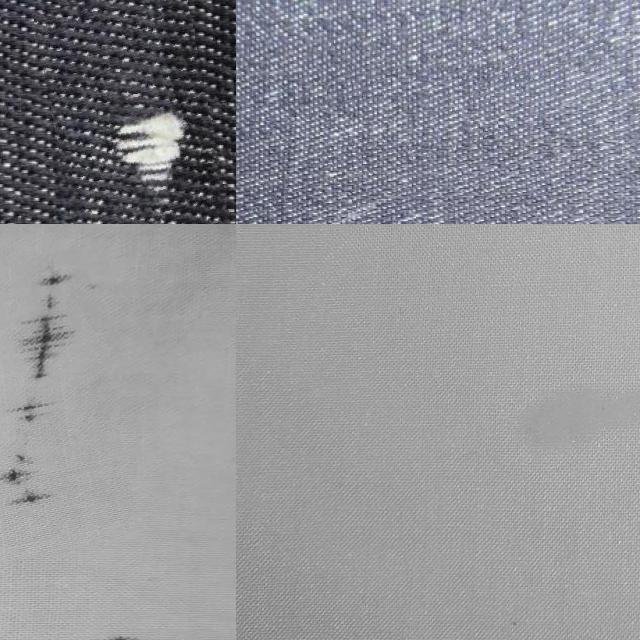Thread_other: (0, 254, 86, 554), (91, 625, 140, 640)
stains: (43, 0, 221, 224)
